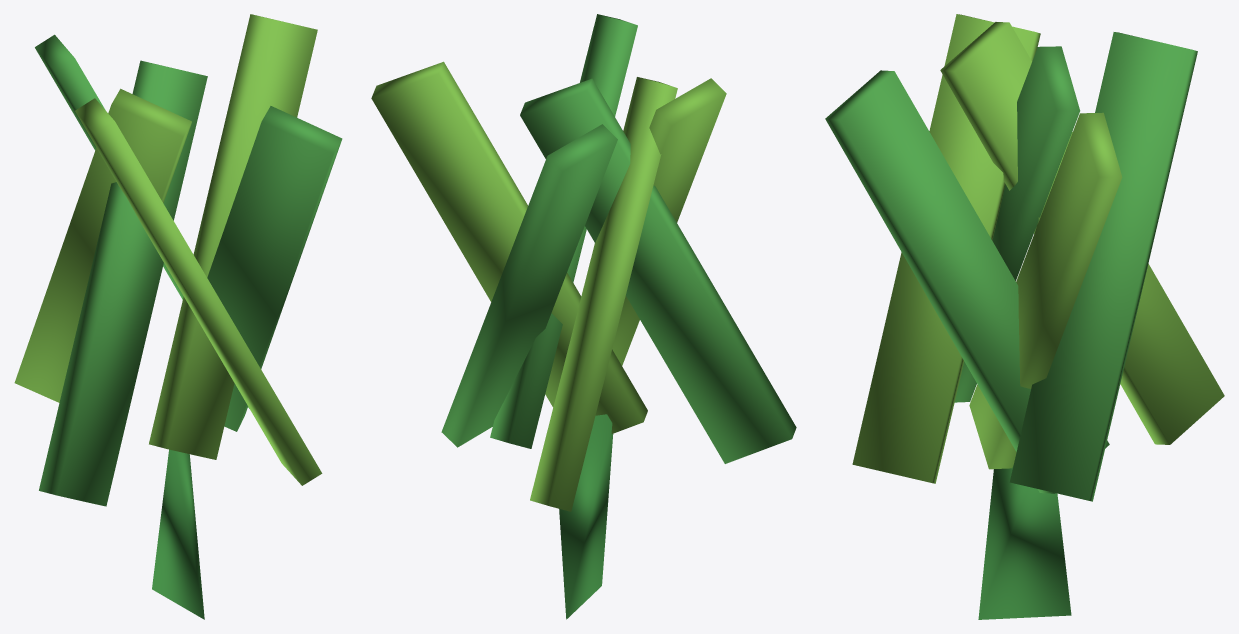
Rendered from prop_tree_tropical_2_far.glb.
3 views of the same model, side by side, from view 1: azimuth 30°, elevation 25°; view 2: azimuth 150°, elevation 25°; view 3: azimuth 270°, elevation 25° (orthographic). The views are drawn at different scales.
Visible parts, largest first — view 1: Leaf3, Leaf0, Leaf5, Leaf2, Leaf4, Stem, Leaf1; view 2: Leaf3, Leaf0, Leaf1, Leaf2, Leaf5, Leaf4, Stem; view 3: Leaf1, Leaf5, Leaf4, Leaf2, Leaf0, Stem, Leaf3.
Part boxes in pixels (x1,y1,x2,y2): Leaf3: (39, 60, 207, 506); Leaf0: (149, 14, 317, 459); Leaf5: (207, 106, 342, 431); Leaf2: (14, 88, 191, 402); Leaf4: (75, 98, 322, 485); Stem: (152, 449, 204, 619); Leaf1: (35, 34, 249, 408); Leaf3: (520, 78, 796, 463); Leaf0: (371, 61, 647, 433); Leaf1: (441, 124, 617, 447); Leaf2: (530, 77, 677, 511); Leaf5: (490, 14, 637, 448); Leaf4: (612, 78, 726, 365); Stem: (559, 414, 613, 619); Leaf1: (1009, 32, 1197, 501); Leaf5: (825, 70, 1109, 493); Leaf4: (852, 14, 1040, 483); Leaf2: (940, 22, 1224, 444); Leaf0: (969, 112, 1122, 469); Stem: (978, 465, 1071, 619); Leaf3: (954, 46, 1080, 402).
Bounding box in the file's own units: 2.34 × 3.44 × 2.21.
